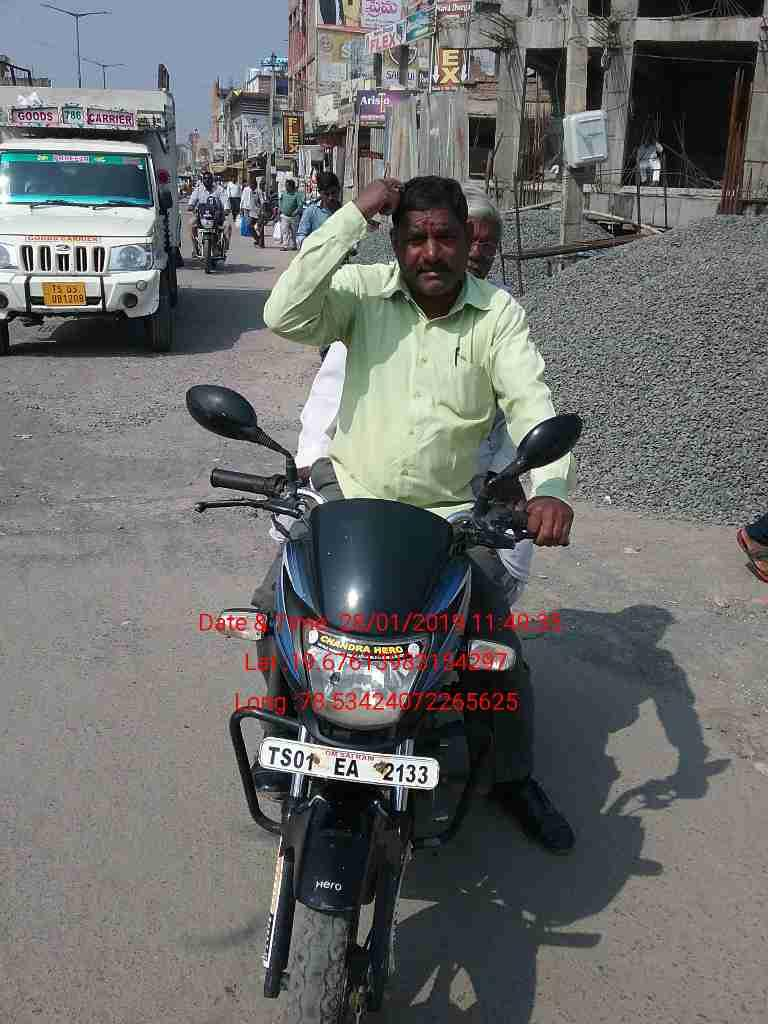plate: (261, 733, 446, 797)
